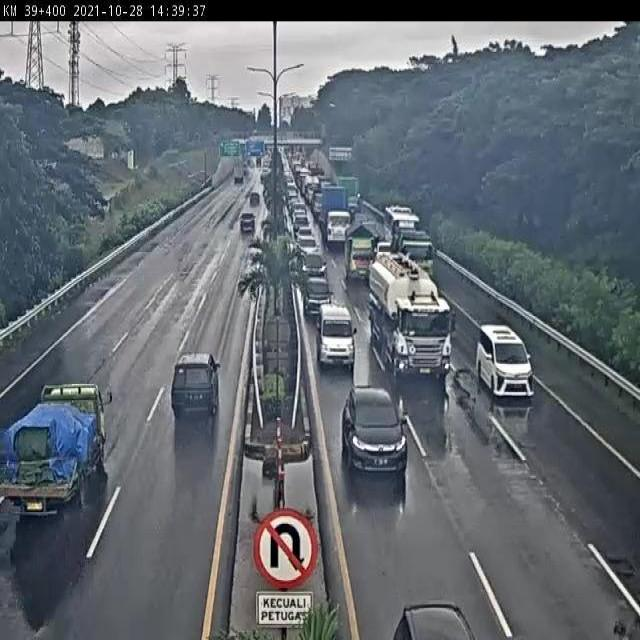big truck: (360, 248, 443, 363)
car: (372, 544, 480, 640), (337, 376, 399, 472), (164, 356, 233, 424), (482, 316, 534, 391), (318, 297, 352, 353), (304, 274, 330, 310), (301, 247, 325, 270), (235, 219, 254, 248), (245, 191, 265, 217)
small truck: (0, 356, 115, 536), (343, 223, 371, 272)
